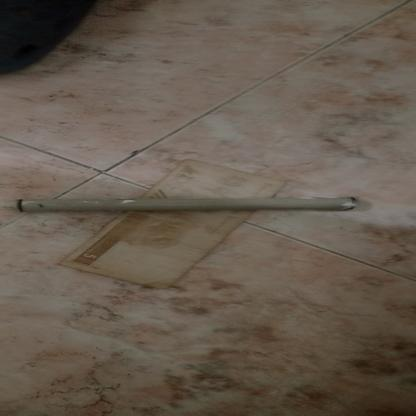five-back-vef: (57, 158, 286, 288)
